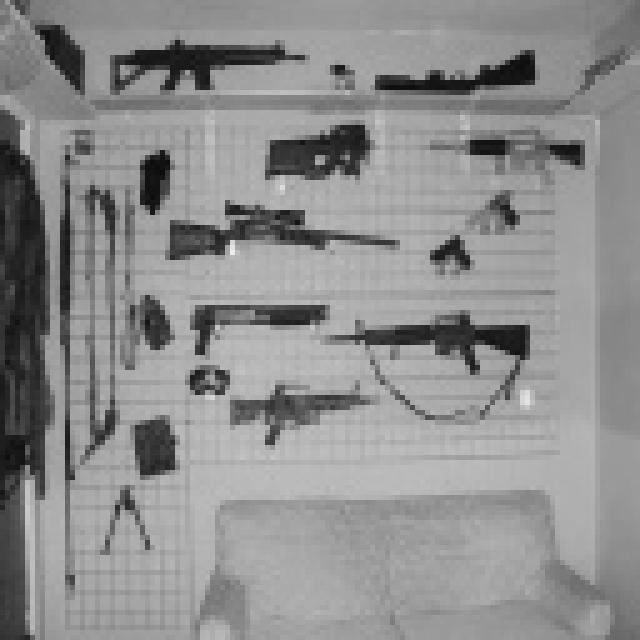Rifle: (516, 0, 640, 551), (29, 122, 132, 616), (302, 297, 580, 426), (152, 174, 408, 284), (85, 0, 315, 120), (353, 17, 574, 113), (146, 278, 355, 376), (195, 364, 395, 451), (408, 169, 541, 295), (405, 125, 631, 196), (242, 116, 429, 196)
